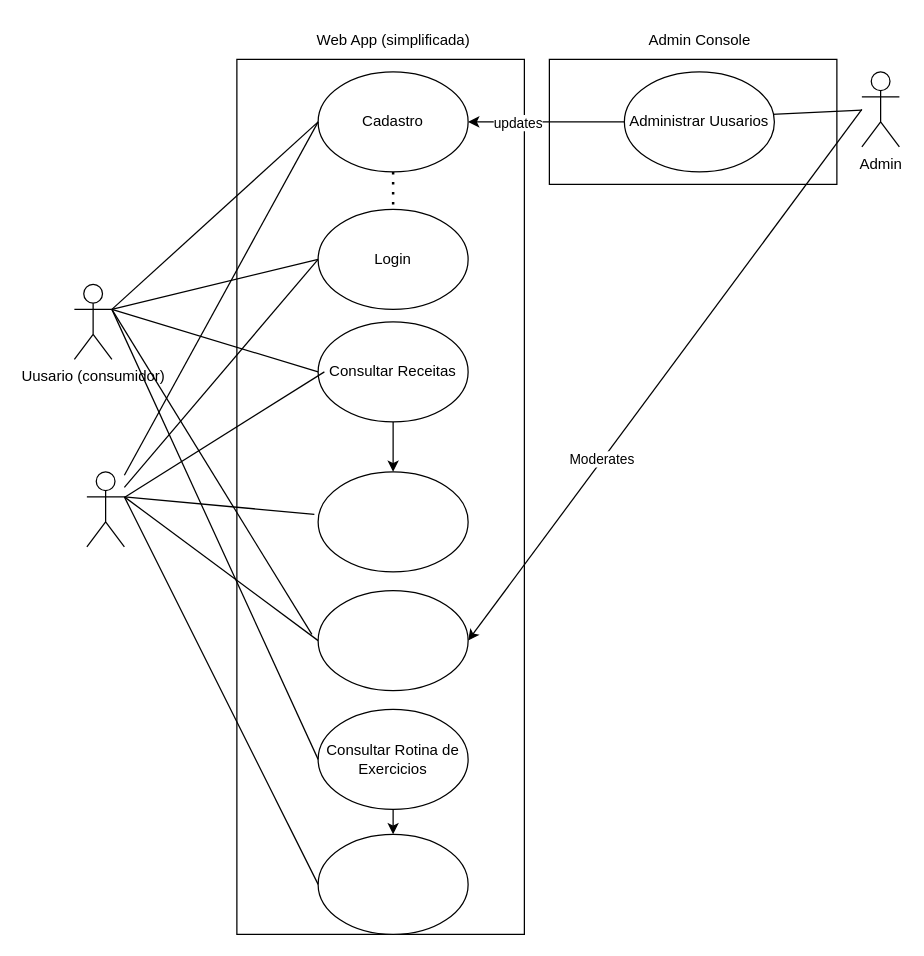
Image size: 924x956. Some labels were removed from this diagram. The shapes that lost their labels are listed below. From the top down, each one's centre as x and y in pixels, then its label:
At point 105,509: "Usuario (publicador)".
At point 392,521: "Criar/Atualizar Receitas".
At point 392,640: "Discutir no Forum de Usuarios".
At point 392,883: "Criar Rotina de Exercicios".
